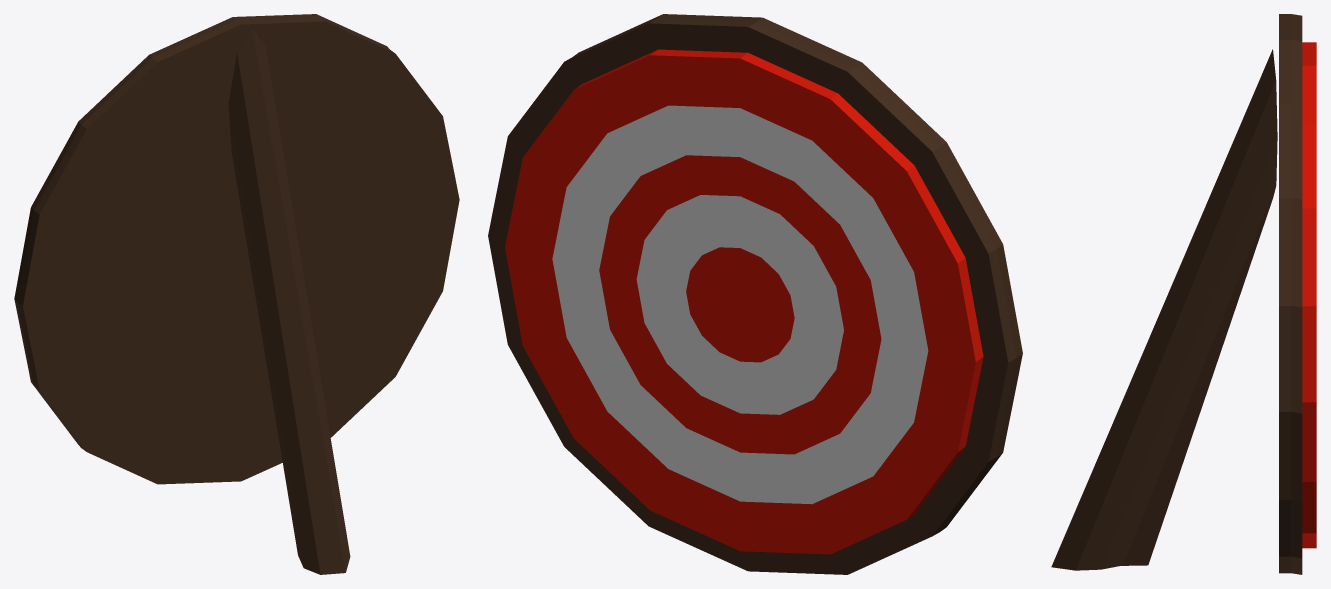
Rendered from Target.fbx.
3 views of the same model, side by side, from view 1: azimuth 30°, elevation 25°; view 2: azimuth 150°, elevation 25°; view 3: azimuth 270°, elevation 25° (orthographic). The views are drawn at different scales.
Parts seen in each view (by area): view 1: Target, Stand; view 2: Target; view 3: Stand, Target.
Boxes of the visible parts, x1,y1,x2,y2 form: Target: (14,14,459,484); Stand: (228,28,350,574); Target: (488,14,1022,574); Stand: (1051,49,1277,570); Target: (1279,14,1316,574).
Bounding box in the file's own units: 89.8 × 94.16 × 42.41.
